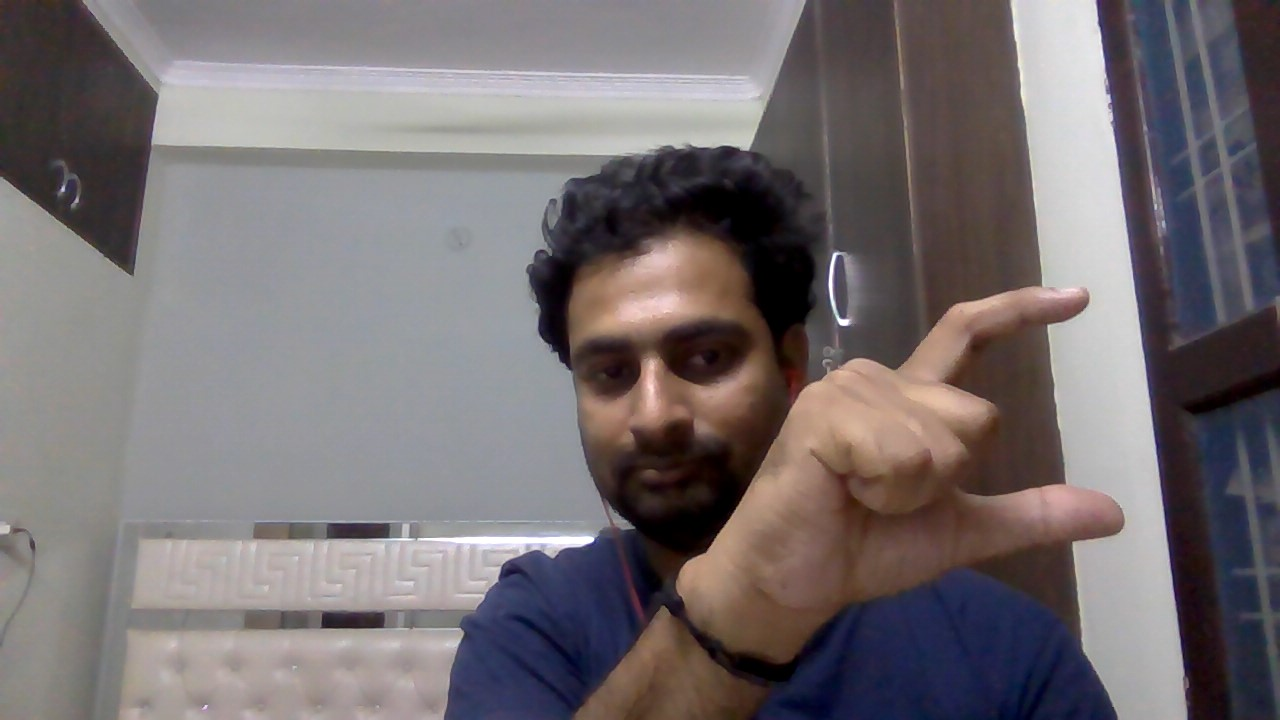Paste: (719, 272, 1142, 642)
